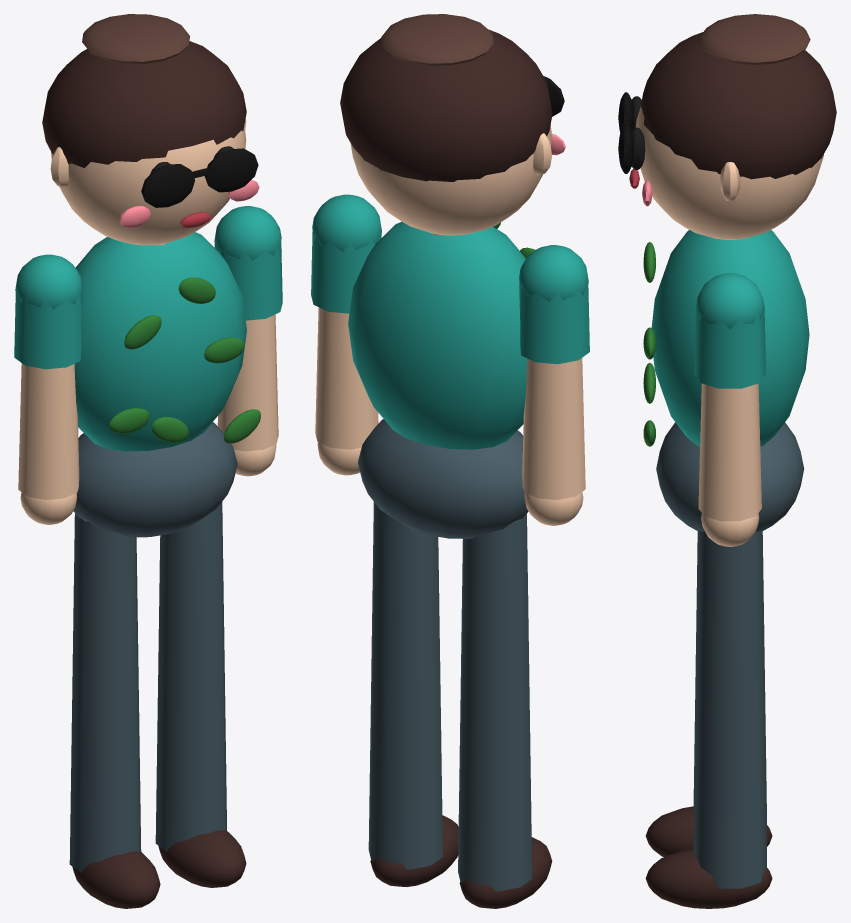
File: cameos_burry.glb
The picture shows the model from 3 angles, left to right: view 1: azimuth 30°, elevation 25°; view 2: azimuth 150°, elevation 25°; view 3: azimuth 270°, elevation 25°; orthographic projection. The views are drawn at different scales.
Visible parts, largest first — view 1: Body.007, Leg_R.007, Leg_L.007, Arm_R.007, Arm_L.007, CameosBurryExtra; view 2: Body.007, Leg_R.007, Leg_L.007, Arm_R.007, Arm_L.007; view 3: Body.007, Leg_L.007, Arm_L.007, Leg_R.007, CameosBurryExtra.
Boxes of the visible parts, left/top/right/bottom form: Body.007: left=42, top=14, right=259, bottom=537; Leg_R.007: left=69, top=513, right=160, bottom=908; Leg_L.007: left=155, top=502, right=246, bottom=887; Arm_R.007: left=14, top=254, right=82, bottom=524; Arm_L.007: left=214, top=206, right=282, bottom=476; CameosBurryExtra: left=109, top=277, right=260, bottom=443; Body.007: left=340, top=14, right=565, bottom=538; Leg_R.007: left=458, top=514, right=552, bottom=908; Leg_L.007: left=368, top=502, right=458, bottom=887; Arm_R.007: left=519, top=245, right=589, bottom=525; Arm_L.007: left=311, top=194, right=381, bottom=475; Body.007: left=618, top=14, right=836, bottom=531; Leg_L.007: left=645, top=531, right=772, bottom=908; Arm_L.007: left=694, top=273, right=766, bottom=546; Leg_R.007: left=645, top=531, right=772, bottom=856; CameosBurryExtra: left=643, top=242, right=655, bottom=446.
Size of the model in its own units: 0.57 by 1.78 by 0.4131.
